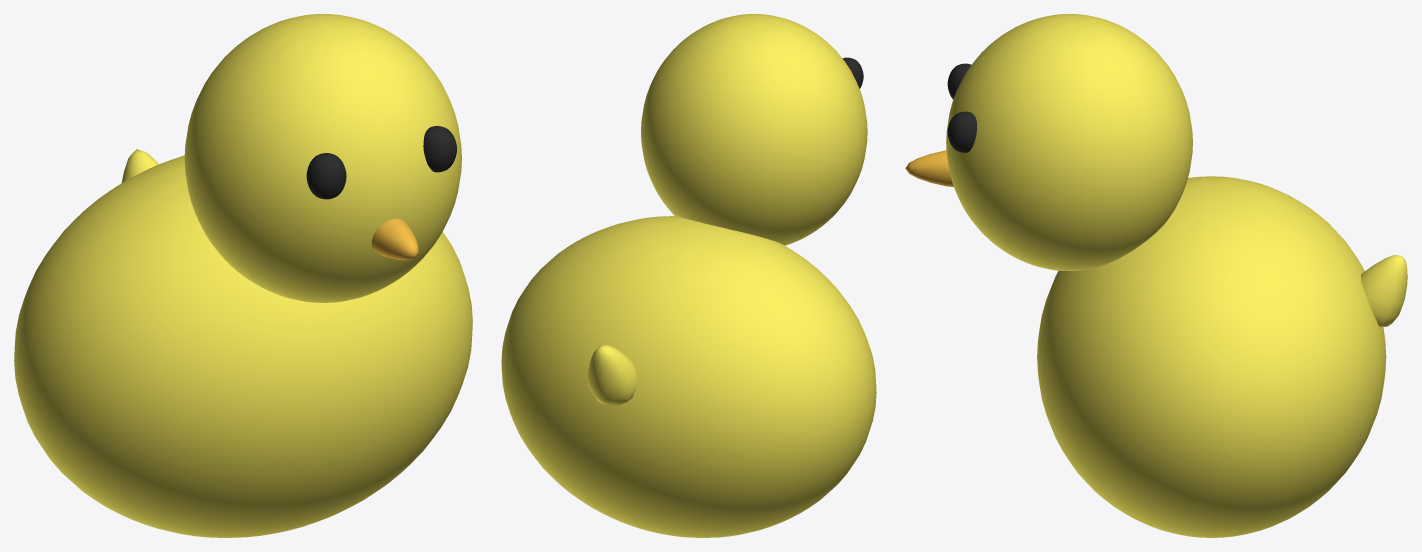
The model's file is rubber_duck.glb.
3 views of the same model, side by side, from view 1: azimuth 30°, elevation 25°; view 2: azimuth 150°, elevation 25°; view 3: azimuth 270°, elevation 25° (orthographic). The views are drawn at different scales.
Parts seen in each view (by area): view 1: rubber_duck; view 2: rubber_duck; view 3: rubber_duck.
Boxes of the visible parts, x1,y1,x2,y2 form: rubber_duck: [14, 14, 472, 537]; rubber_duck: [501, 14, 876, 537]; rubber_duck: [905, 14, 1407, 537].
Bounding box in the file's own units: 0.4507 × 0.5702 × 0.5304.
